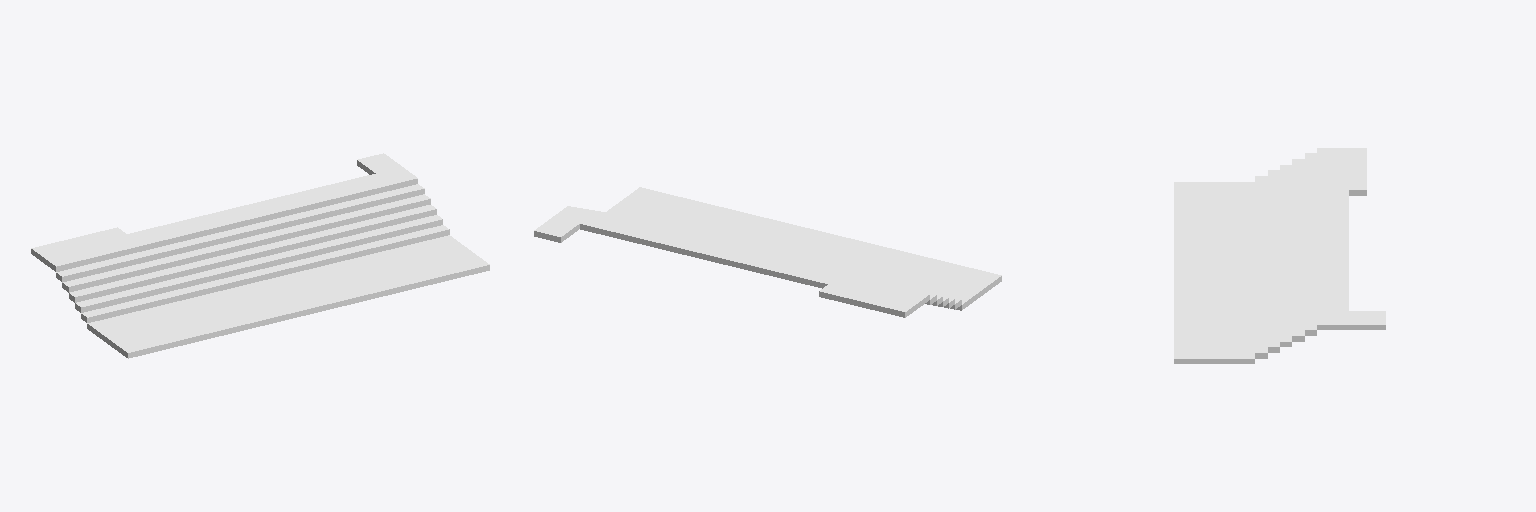
File: House-8-Ground.obj
The picture shows the model from 3 angles: view 1: azimuth 30°, elevation 25°; view 2: azimuth 150°, elevation 25°; view 3: azimuth 270°, elevation 25°; orthographic projection.
Visible parts, largest first — view 1: Ground; view 2: Ground; view 3: Ground.
Boxes of the visible parts, <box> form: Ground: <box>31,153,489,358</box>; Ground: <box>534,187,1001,317</box>; Ground: <box>1174,148,1385,363</box>.
Bounding box in the file's own units: 6.7 × 0.7 × 3.4.